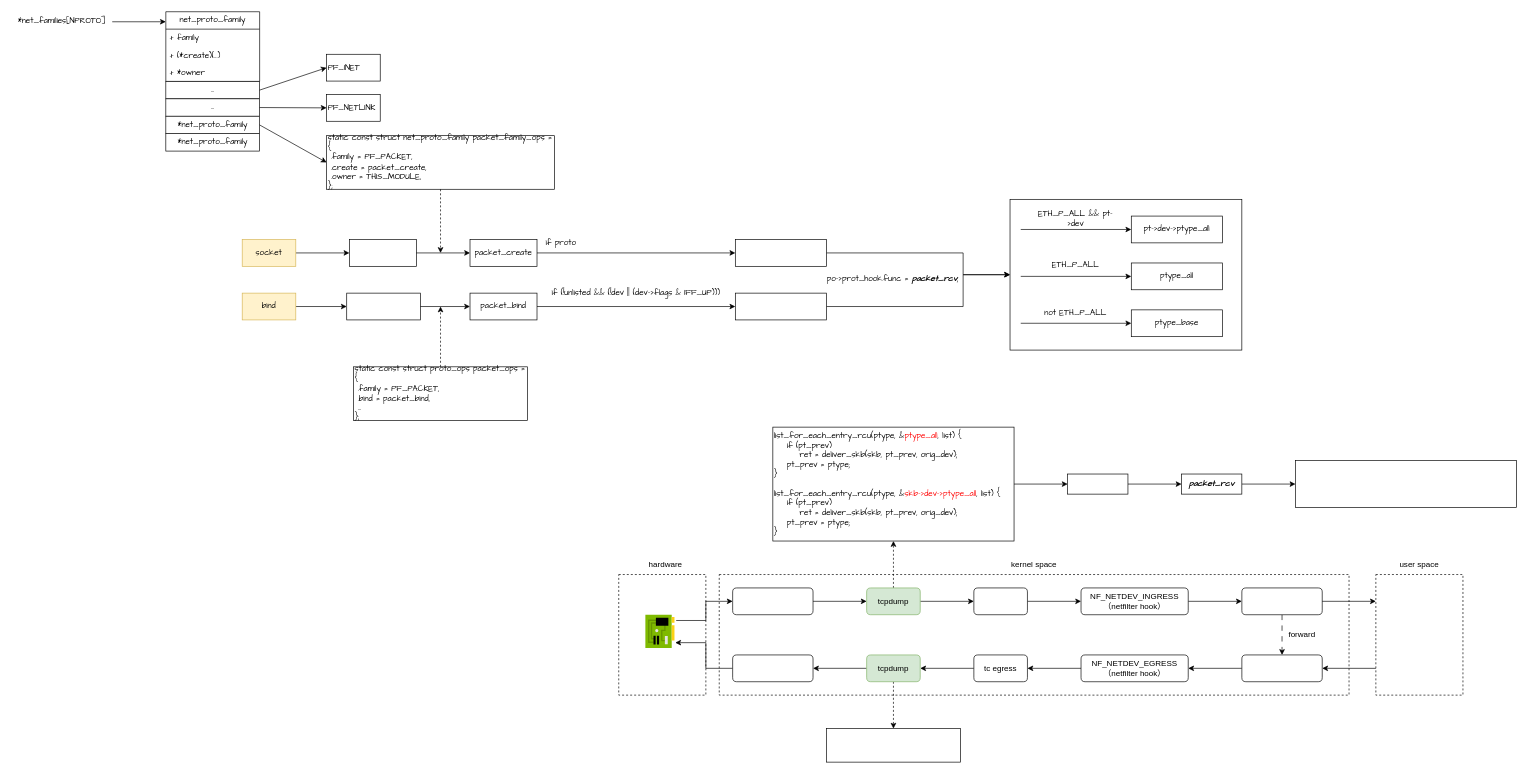
Image size: 1528x774. Some labels were removed from this diagram. Each missing label, with the centre of its shape:
"__register_prot_hook" goes at [780,252].
"deliver_skb" goes at [1097,483].
"if (dev_nit_active(dev)) dev_queue_xmit_nit(skb, dev);" goes at [893,745].
"NET_RX_SOFTIRQ" goes at [772,601].
"NET_TX_SOFTIRQ" goes at [772,668].
"pf->create(...)" goes at [382,252].
"POST_ROUTING （netfilter hook）" goes at [1281,668].
"PRE_ROUTING （netfilter hook）" goes at [1281,601].
"register_prot_hook" goes at [780,306].
"run_filter(...); skb_clone(...); __skb_queue_tail(&sk->sk_receive_queue, skb);" goes at [1406,484].
"sock->ops->bind(...)" goes at [383,306].
"tc ingress" goes at [1000,601].
